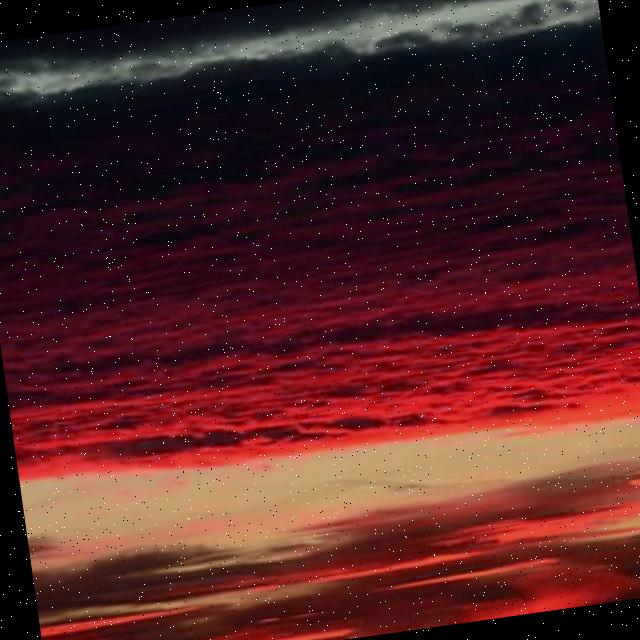Ns: (1, 17, 640, 518)
